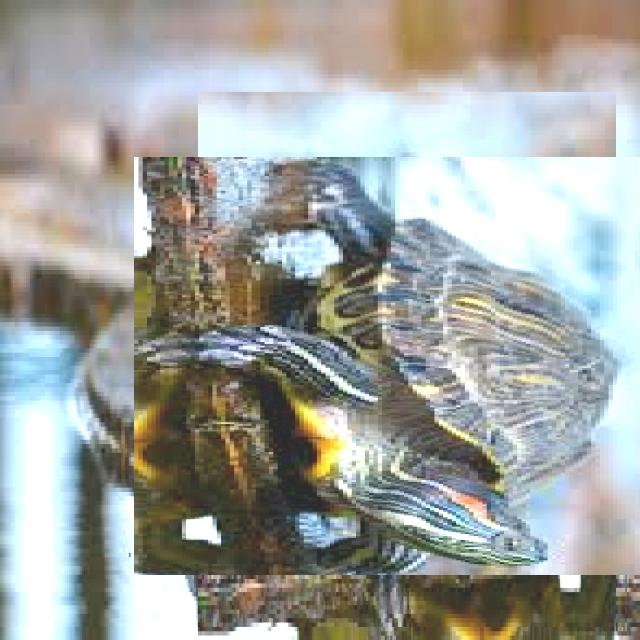Sea turtle: (165, 124, 640, 607)
